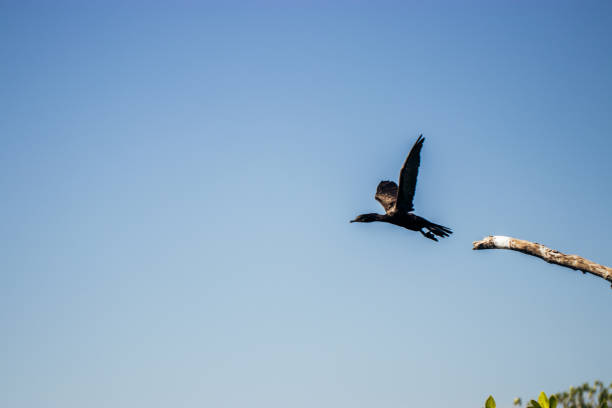goose: (345, 130, 460, 249)
